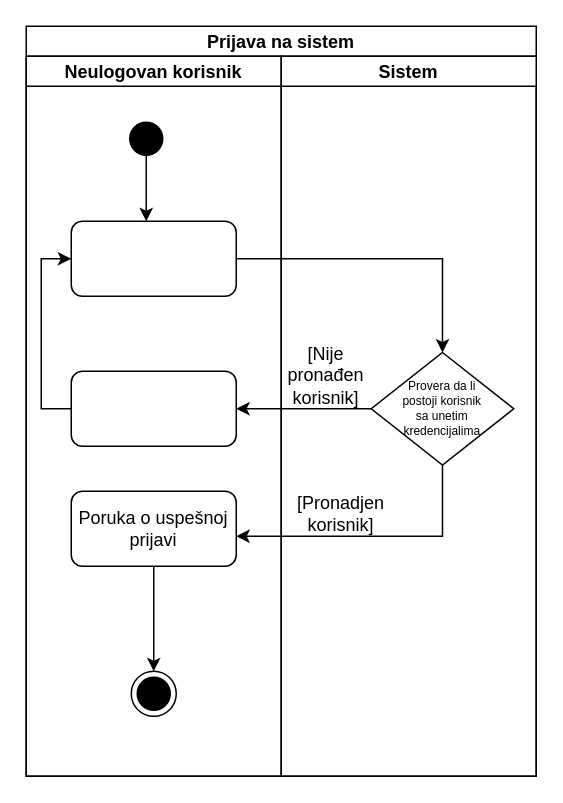
This 563x803 diagram has some shape labels left out. The shapes that lost their labels are listed below. From the top down, each one's centre as x and y in pixels, then its label:
At (153,258): "Popunjava formu za prijavu".
At (153,408): "Poruka o neuspešnoj prijavi".
